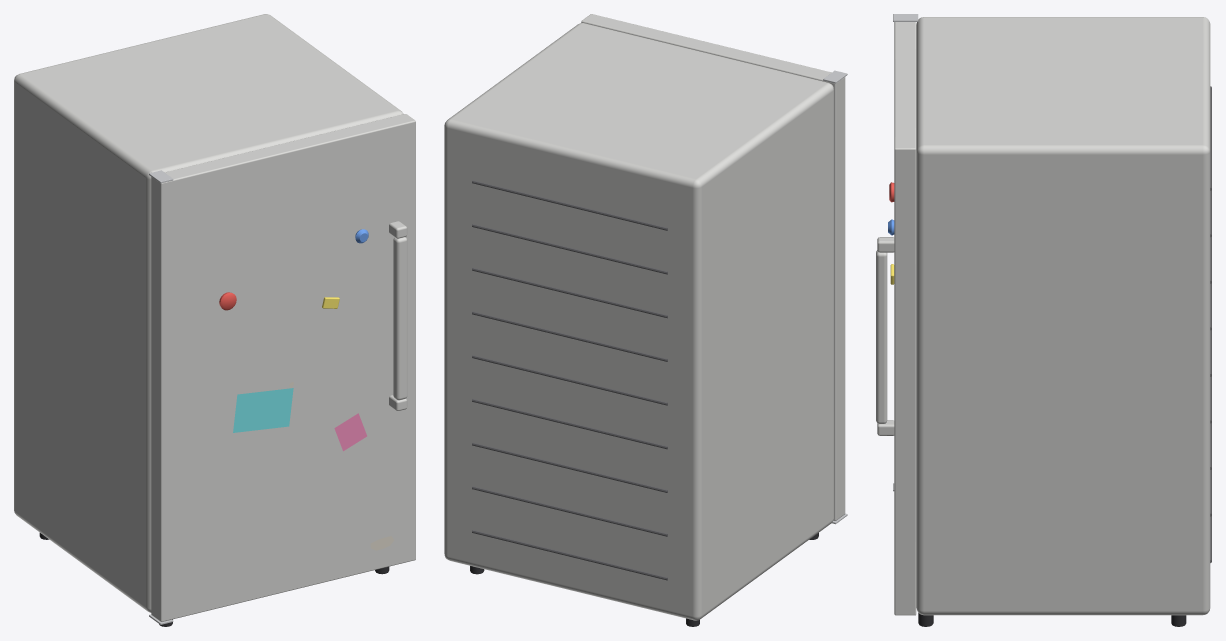
File: furniture_mini_fridge.fbx
3 renders of one model, left to right at view 1: azimuth 30°, elevation 25°; view 2: azimuth 150°, elevation 25°; view 3: azimuth 270°, elevation 25°, orthographic. The views are drawn at different scales.
Parts seen in each view (by area): view 1: door_L, body; view 2: body, door_L; view 3: body, door_L.
Boxes of the visible parts, box(x1,y1,x2,y2) form: door_L: box(149, 114, 415, 624); body: box(14, 14, 403, 626); body: box(444, 23, 833, 626); door_L: box(581, 14, 847, 524); body: box(916, 17, 1211, 626); door_L: box(876, 14, 918, 615).
Size of the model in its own units: 0.5 by 0.851 by 0.5315.
